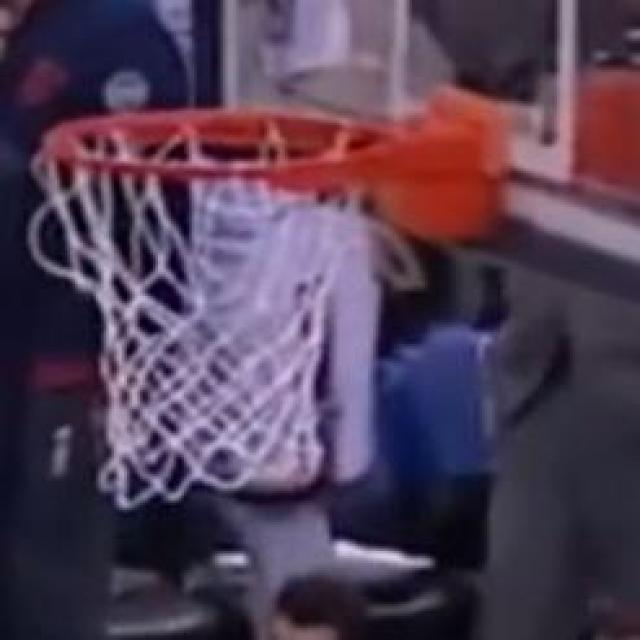hoop: (2, 101, 550, 501)
